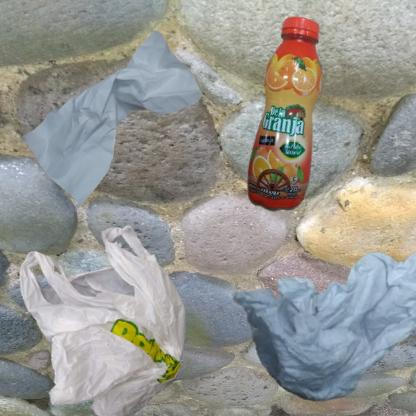bolsa: (10, 213, 222, 416)
botella: (213, 10, 405, 278)
papel: (10, 10, 219, 236), (213, 213, 416, 416)
